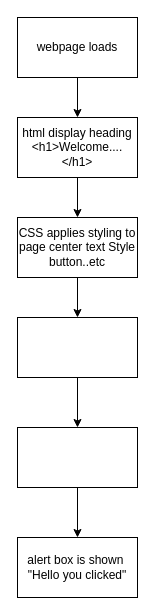
This 155x615 diagram has some shape labels left out. The shapes that lost their labels are listed below. From the top down, each one's box as (x1, y1, x2, y2) in pixels, then its label:
(16, 316, 138, 378): button is displayed "click me"
(16, 426, 138, 488): java script function says Hello() is called via onclick event
